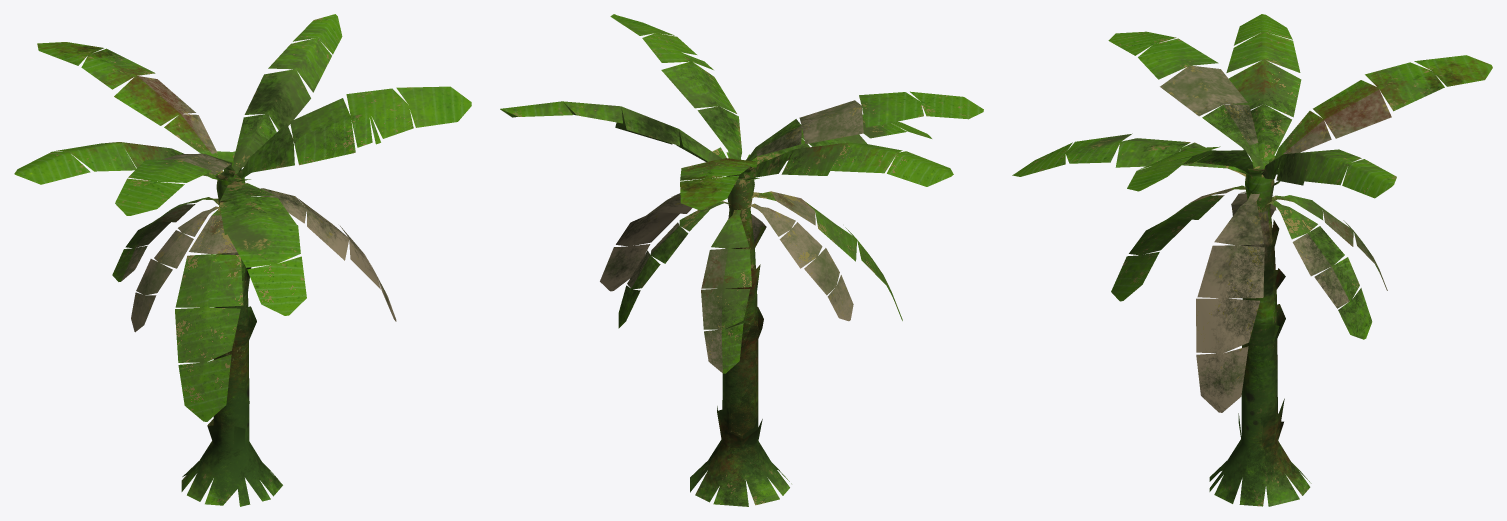
The model's file is Bisaya banana.glb.
3 renders of one model, left to right at view 1: azimuth 30°, elevation 25°; view 2: azimuth 150°, elevation 25°; view 3: azimuth 270°, elevation 25°, orthographic.
Parts seen in each view (by area): view 1: Plane.012; view 2: Plane.012; view 3: Plane.012.
Part boxes in pixels (box(x1,y1,x2,y2)): Plane.012: box(14, 14, 471, 506); Plane.012: box(500, 14, 983, 506); Plane.012: box(1012, 14, 1492, 506).
Bounding box in the file's own units: 3.71 × 3.48 × 3.85.
Materials: 1 (1 with a texture image).
